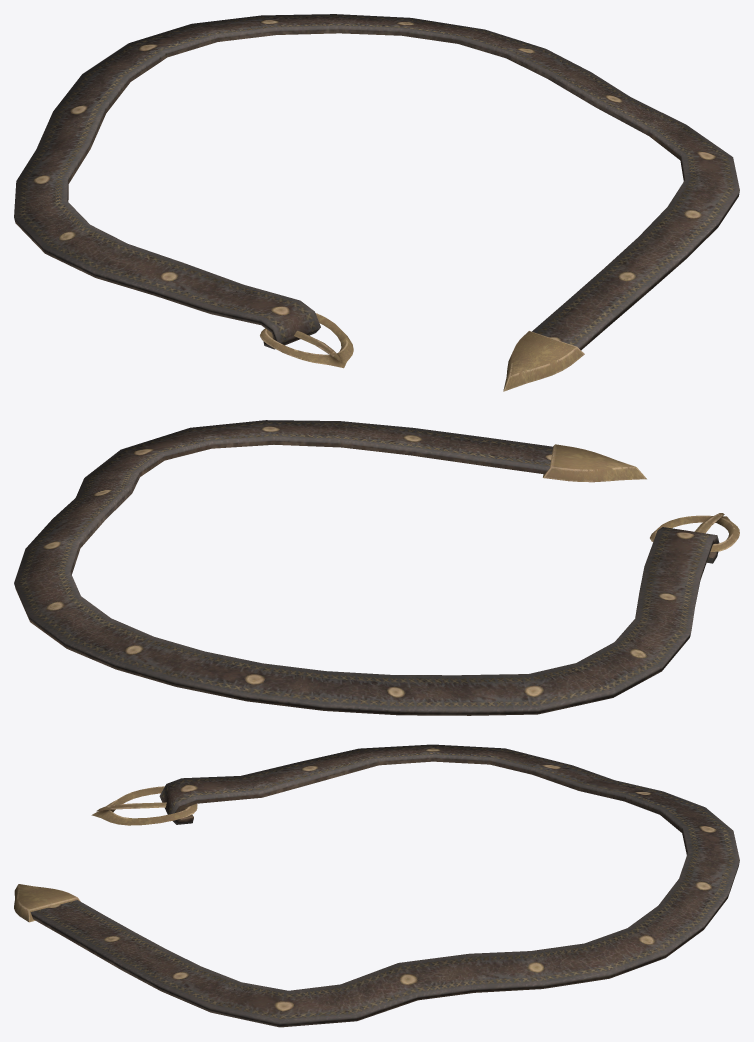
File: dunland_prop_wulf_belt_a.fbx
The picture shows the model from 3 angles, top to bottom: view 1: azimuth 30°, elevation 25°; view 2: azimuth 150°, elevation 25°; view 3: azimuth 270°, elevation 25°; orthographic projection. The views are drawn at different scales.
Parts seen in each view (by area): view 1: dunland_prop_wulf_belt_a; view 2: dunland_prop_wulf_belt_a; view 3: dunland_prop_wulf_belt_a.
Part boxes in pixels (x1=…): dunland_prop_wulf_belt_a: x1=14, y1=14, x2=739, y2=391; dunland_prop_wulf_belt_a: x1=14, y1=420, x2=739, y2=715; dunland_prop_wulf_belt_a: x1=14, y1=744, x2=739, y2=1027.
Size of the model in its own units: 0.5039 by 0.5532 by 0.061.
1 material, 1 textured.
